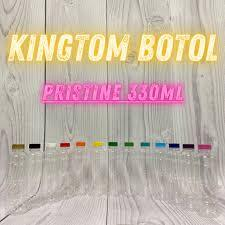BIODEGRADABLE: (149, 138, 175, 211), (194, 141, 219, 216), (22, 141, 47, 214), (4, 142, 28, 217), (38, 139, 62, 213), (115, 139, 143, 202), (53, 136, 76, 207), (179, 142, 202, 212), (132, 138, 156, 204), (88, 137, 112, 202), (164, 142, 186, 207), (103, 139, 125, 203), (71, 140, 92, 203)
